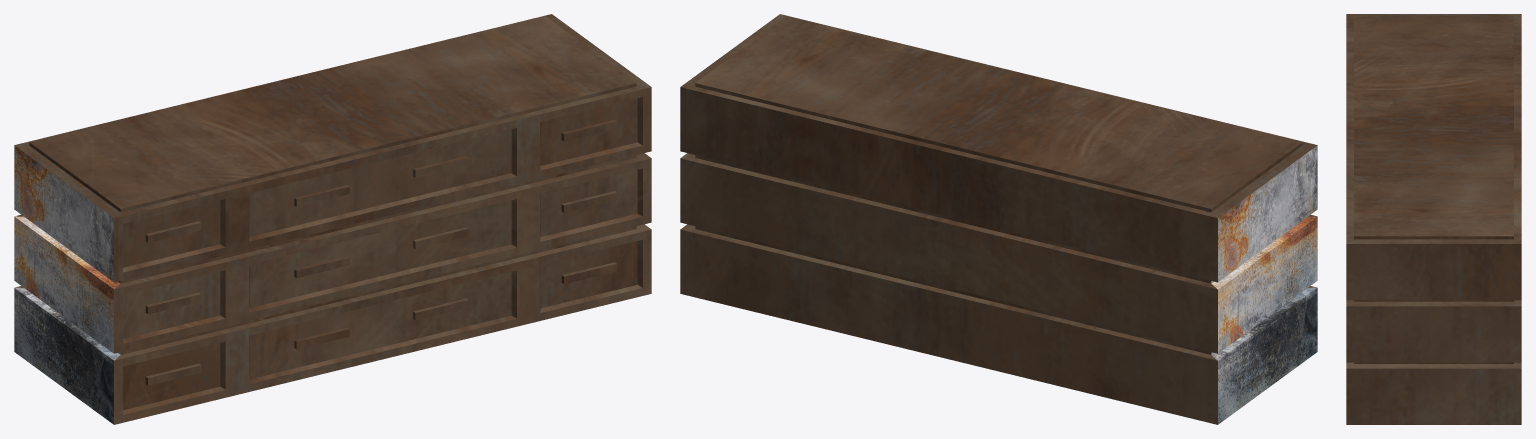
File: drawer_3.fbx
3 renders of one model, left to right at view 1: azimuth 30°, elevation 25°; view 2: azimuth 150°, elevation 25°; view 3: azimuth 270°, elevation 25°, orthographic. The views are drawn at different scales.
Parts seen in each view (by area): view 1: Drawer_3; view 2: Drawer_3; view 3: Drawer_3.
Part boxes in pixels (box(x1,y1,x2,y2)): Drawer_3: box(14, 14, 651, 424); Drawer_3: box(680, 14, 1317, 424); Drawer_3: box(1346, 14, 1521, 424).
Bounding box in the file's own units: 96.62 × 36.69 × 31.09.
